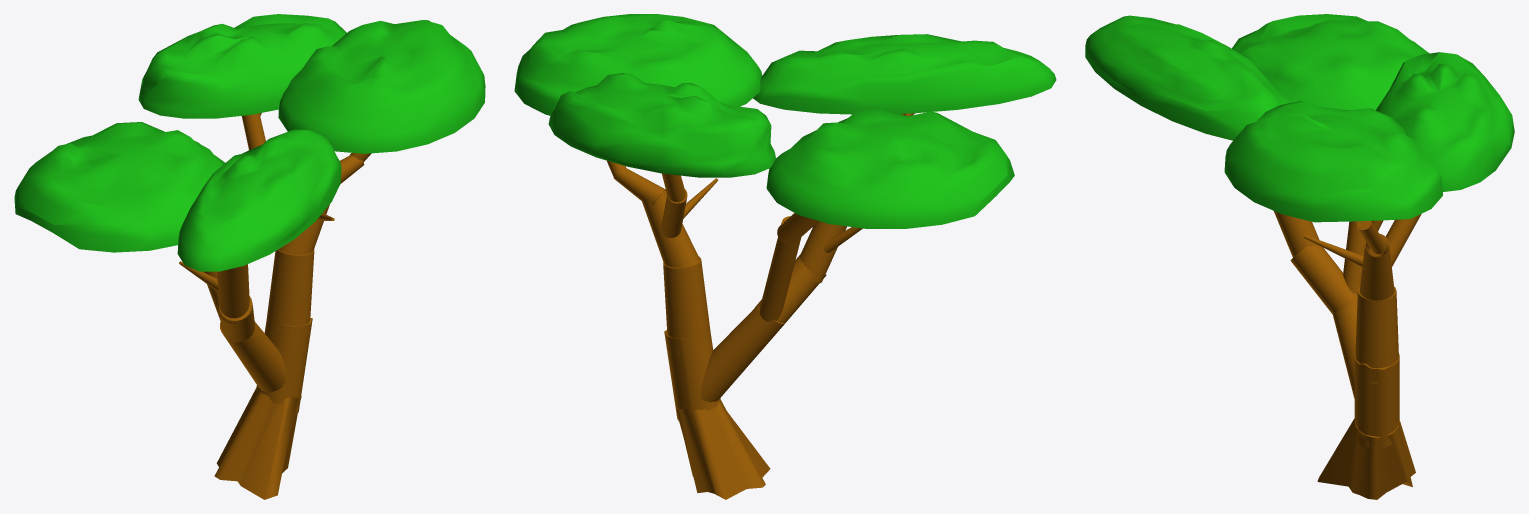
The model's file is flat_head_tree - Copy.fbx.
3 views of the same model, side by side, from view 1: azimuth 30°, elevation 25°; view 2: azimuth 150°, elevation 25°; view 3: azimuth 270°, elevation 25° (orthographic).
Visible parts, largest first — view 1: pCylinder21; view 2: pCylinder21; view 3: pCylinder21.
Boxes of the visible parts, x1,y1,x2,y2 form: pCylinder21: [14, 14, 485, 499]; pCylinder21: [514, 14, 1056, 499]; pCylinder21: [1085, 14, 1514, 499].
Bounding box in the file's own units: 20.83 × 18.37 × 16.95.
1 material, 1 textured.
